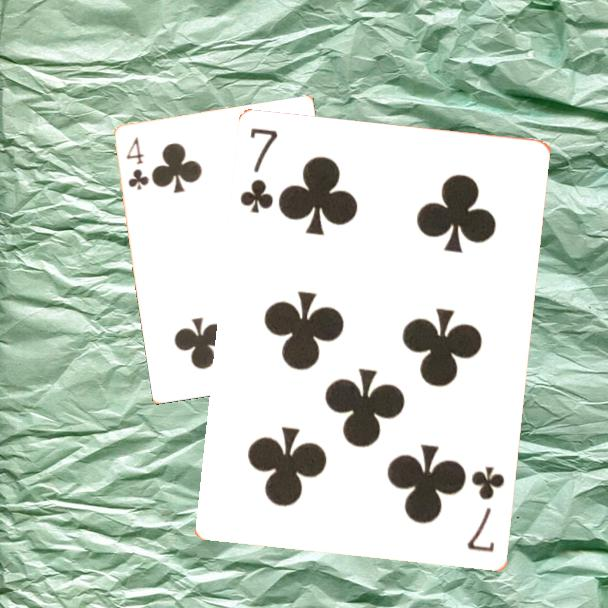c04: (123, 133, 151, 193)
c07: (463, 463, 508, 555), (237, 124, 281, 217)
